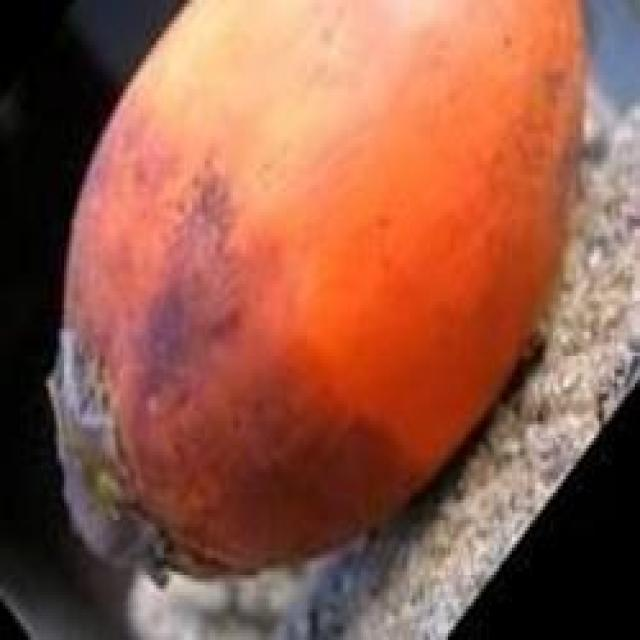good: (46, 0, 586, 596)
